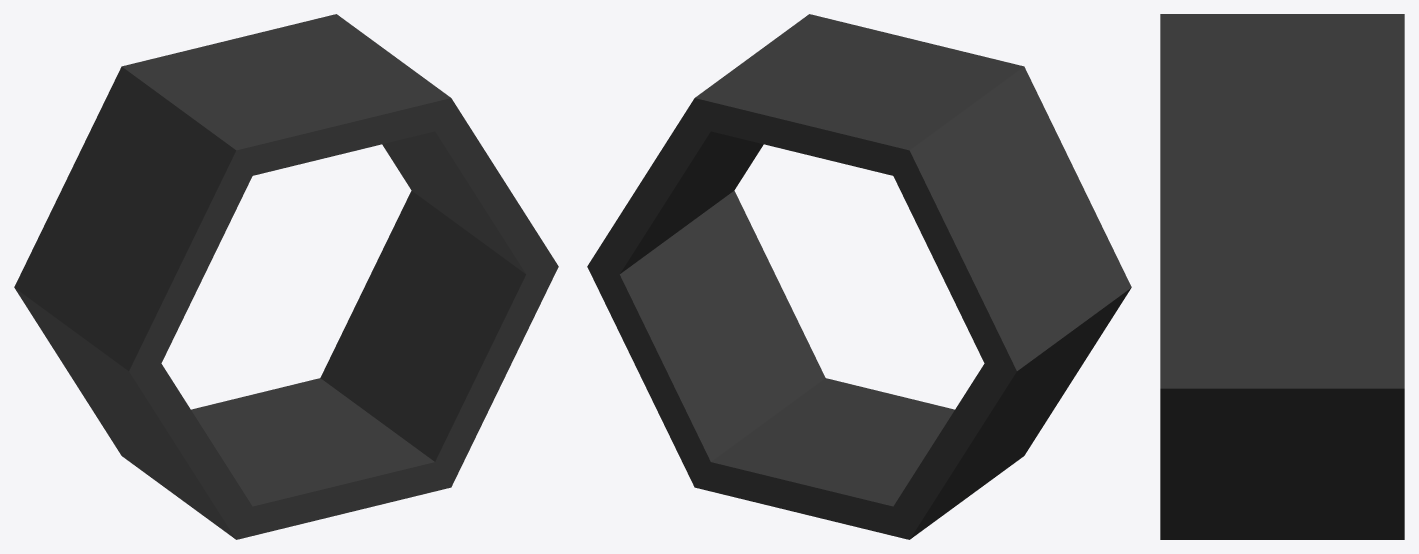
File: Shelf_02.fbx
3 renders of one model, left to right at view 1: azimuth 30°, elevation 25°; view 2: azimuth 150°, elevation 25°; view 3: azimuth 270°, elevation 25°, orthographic. The views are drawn at different scales.
Parts seen in each view (by area): view 1: Shelf_02; view 2: Shelf_02; view 3: Shelf_02.
Boxes of the visible parts, x1,y1,x2,y2 form: Shelf_02: (14,14,558,539); Shelf_02: (587,14,1131,539); Shelf_02: (1160,14,1404,539).
Bounding box in the file's own units: 29.76 × 25.77 × 13.76.
